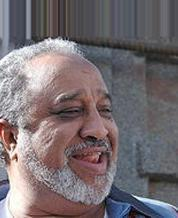face: (54, 93, 117, 174)
